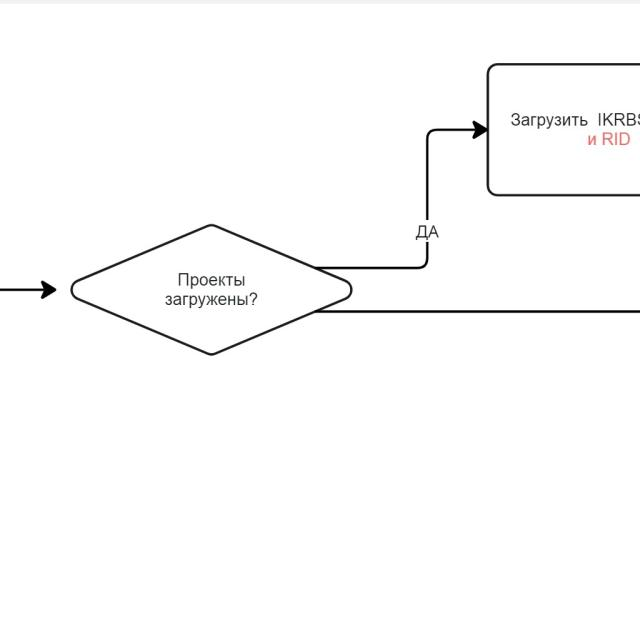arrow: (316, 120, 486, 270)
diamond: (68, 222, 354, 357)
text_region: (415, 223, 440, 241)
